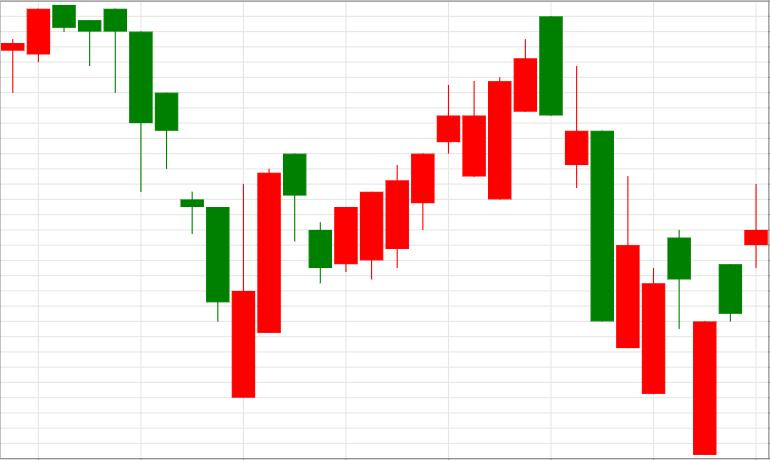bearish_engulfing_fall: (334, 16, 562, 279)
